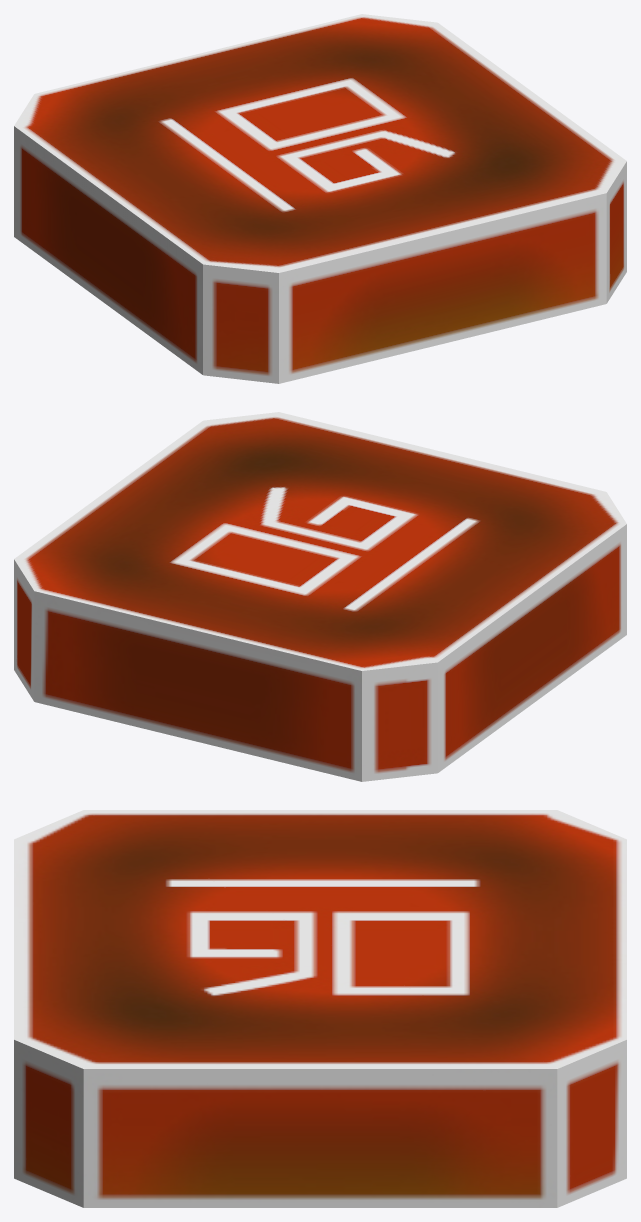
File: MG-ChJ-CS-06PingTaiKuai-1.FBX
The picture shows the model from 3 angles, top to bottom: view 1: azimuth 30°, elevation 25°; view 2: azimuth 150°, elevation 25°; view 3: azimuth 270°, elevation 25°; orthographic projection. The views are drawn at different scales.
Visible parts, largest first — view 1: MG-ChJ-CS-06PingTaiKuai-1; view 2: MG-ChJ-CS-06PingTaiKuai-1; view 3: MG-ChJ-CS-06PingTaiKuai-1.
Part boxes in pixels (bbox=[...]): MG-ChJ-CS-06PingTaiKuai-1: bbox=[14, 14, 626, 383]; MG-ChJ-CS-06PingTaiKuai-1: bbox=[14, 412, 626, 781]; MG-ChJ-CS-06PingTaiKuai-1: bbox=[14, 810, 626, 1207].
Bounding box in the file's own units: 39.37 × 9.84 × 39.37.
